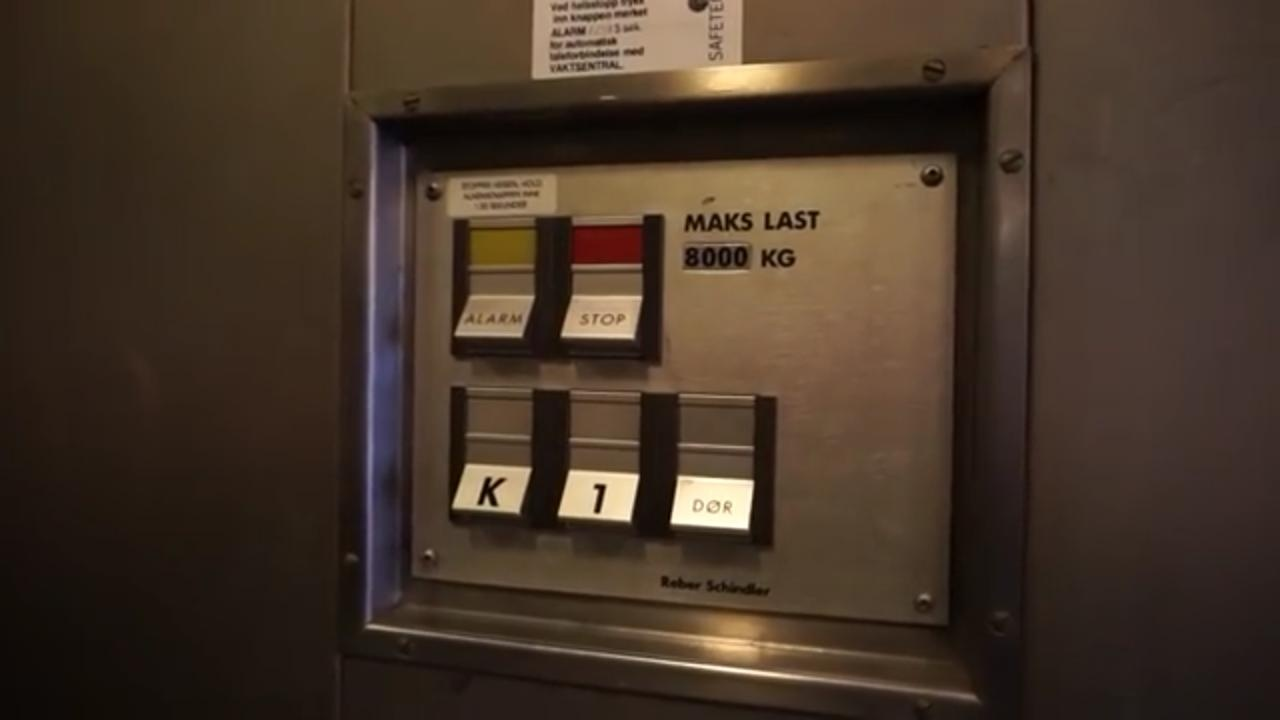1: (553, 465, 643, 527)
DOR: (666, 472, 757, 533)
K: (445, 457, 535, 524)
text_alarm: (446, 289, 539, 346)
text_stop: (553, 289, 647, 345)
